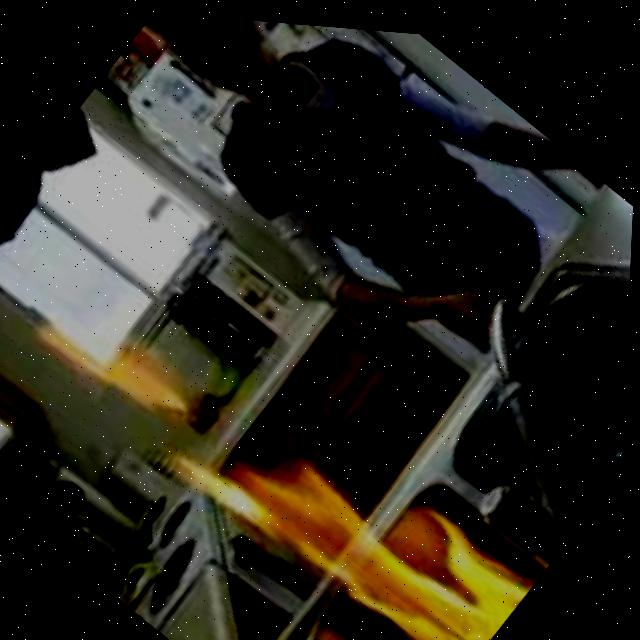Fire: (191, 373, 542, 640), (18, 263, 233, 465)
